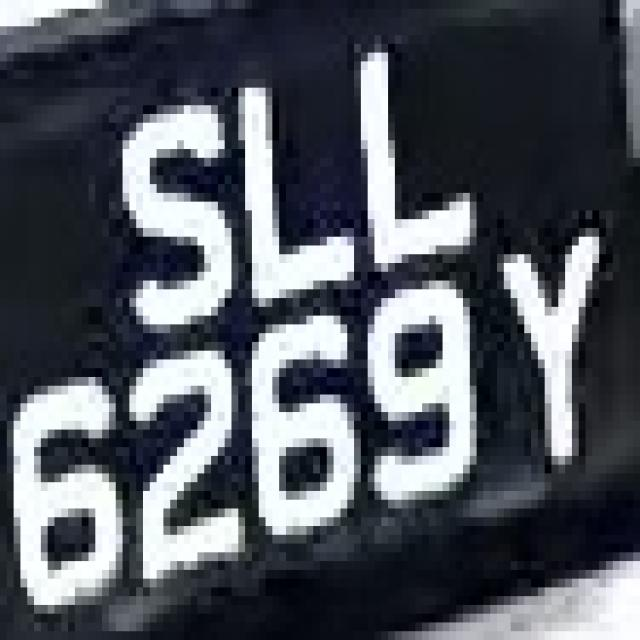2: (95, 351, 245, 578)
6: (0, 350, 136, 640), (238, 255, 361, 552)
9: (347, 246, 490, 526)
L: (204, 44, 374, 307), (341, 9, 484, 263)
S: (102, 79, 232, 351)
Y: (463, 210, 613, 491)
